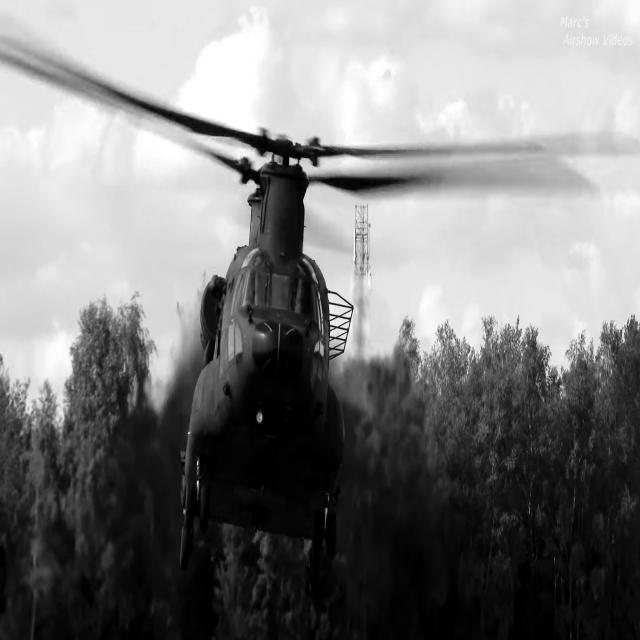Helicopter: (0, 35, 577, 596)
